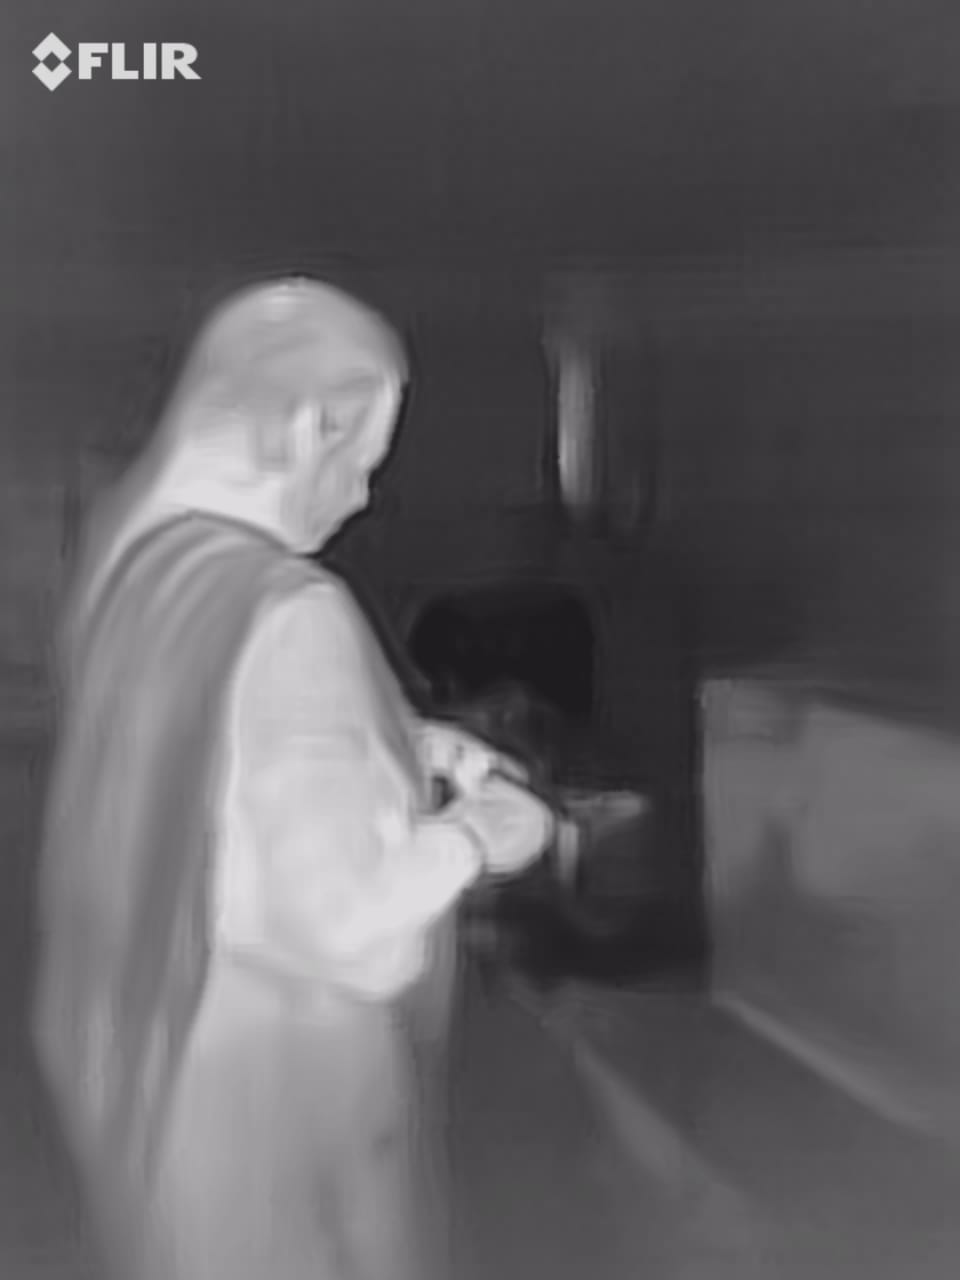head: (124, 273, 409, 591)
